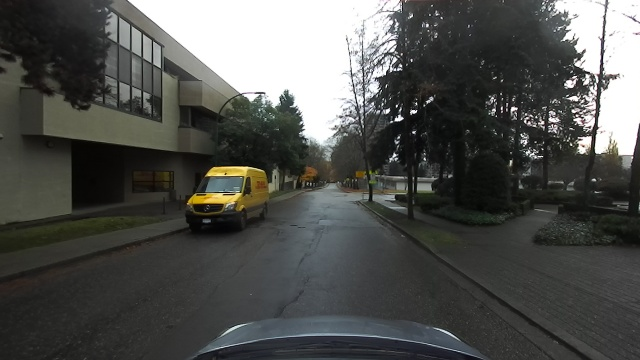car: (181, 162, 278, 234)
